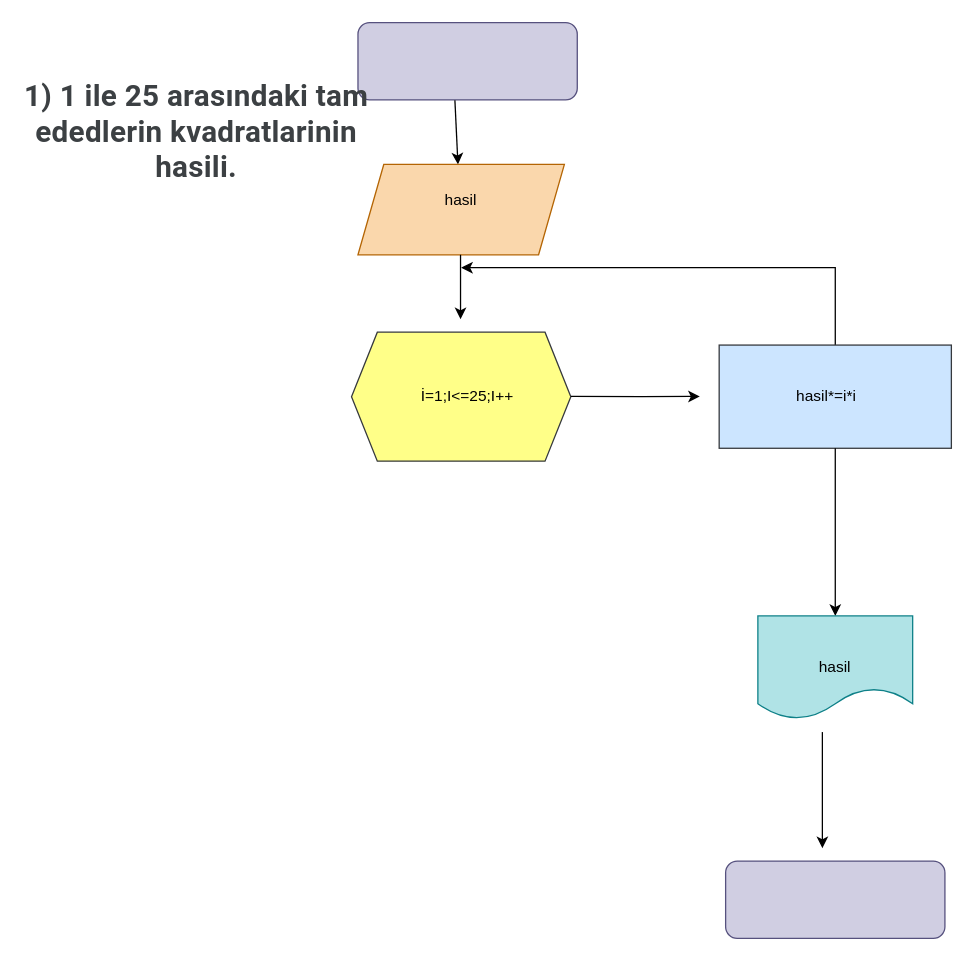
This 974x961 diagram has some shape labels left out. The centre of each missing label's shape, as x and y in pixels:
"END" goes at point (834, 899).
"START" goes at point (467, 60).
